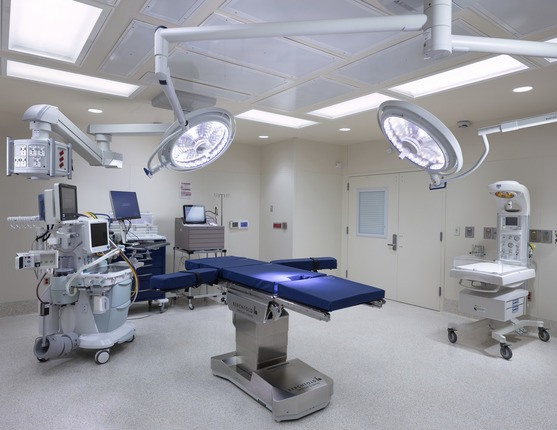bedside_monitor: (54, 183, 79, 222), (87, 221, 112, 252), (182, 204, 206, 225)
computer: (110, 191, 141, 219)
door_handle: (384, 239, 399, 251)
iv_pole: (216, 192, 230, 254)
medical_drawer: (111, 233, 167, 313)
operating_bed: (149, 254, 389, 430)
panda_baby_warmer: (441, 183, 550, 357)
surgical_light: (376, 98, 466, 191), (149, 104, 237, 177)
utility_cart: (172, 245, 228, 311)
ventilator: (26, 218, 135, 364)
